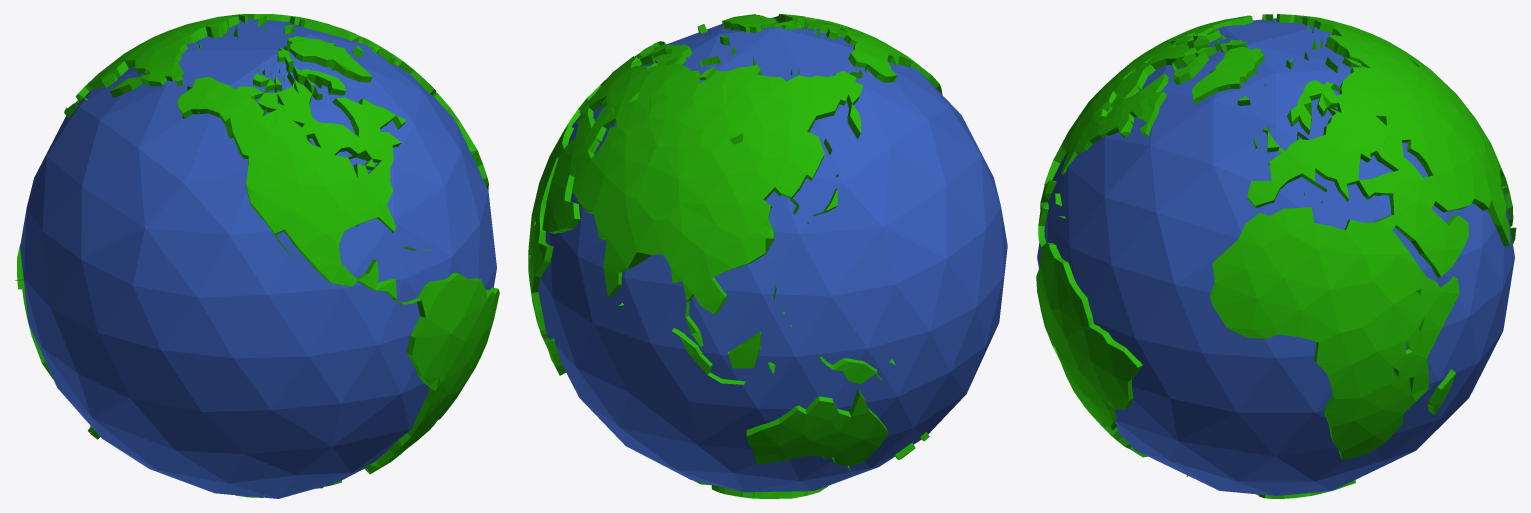
The model's file is Earth.fbx.
3 views of the same model, side by side, from view 1: azimuth 30°, elevation 25°; view 2: azimuth 150°, elevation 25°; view 3: azimuth 270°, elevation 25° (orthographic).
Visible parts, largest first — view 1: Ocean, Earth; view 2: Ocean, Earth; view 3: Ocean, Earth.
Part boxes in pixels (x1,y1,x2,y2): Ocean: [20, 16, 496, 498]; Earth: [15, 14, 499, 497]; Ocean: [538, 21, 1007, 492]; Earth: [528, 14, 942, 498]; Ocean: [1037, 18, 1514, 495]; Earth: [1036, 14, 1516, 498].
Size of the model in its own units: 201 by 203 by 201.
